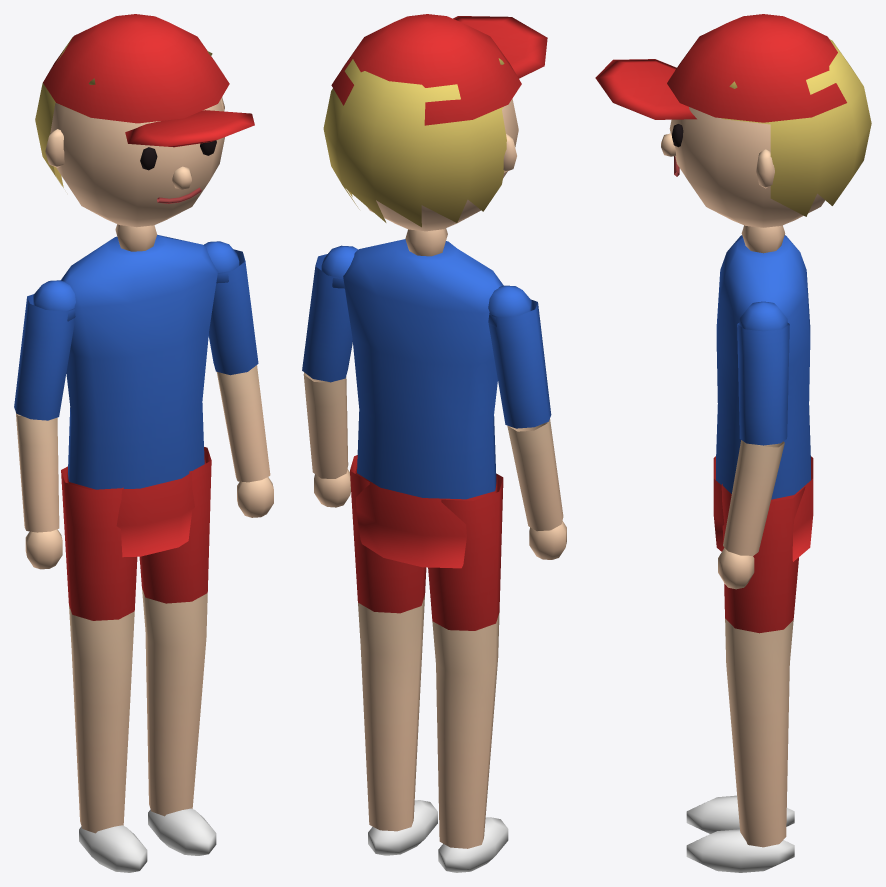
The model's file is Guest_Boy.obj.
3 views of the same model, side by side, from view 1: azimuth 30°, elevation 25°; view 2: azimuth 150°, elevation 25°; view 3: azimuth 270°, elevation 25° (orthographic).
Visible parts, largest first — view 1: Torso, Head, LegR, LegL, ArmR, ArmL; view 2: Torso, Head, LegR, LegL, ArmR, ArmL; view 3: Head, LegL, Torso, ArmL, LegR.
Part boxes in pixels (box(x1,y1,x2,y2)): Torso: box(61, 224, 218, 557); Head: box(35, 14, 254, 227); LegR: box(61, 466, 147, 872); LegL: box(139, 447, 216, 855); ArmR: box(14, 280, 75, 569); ArmL: box(203, 241, 273, 517); Torso: box(343, 228, 503, 568); Head: box(323, 14, 547, 231); LegR: box(428, 473, 508, 872); LegL: box(350, 455, 437, 855); ArmR: box(488, 285, 566, 559); ArmL: box(302, 245, 357, 507); Head: box(595, 14, 871, 227); LegL: box(686, 484, 805, 872); Torso: box(713, 225, 813, 561); ArmL: box(718, 301, 789, 589); LegR: box(686, 795, 794, 833).
Size of the model in its own units: 0.4054 by 1.3 by 0.3926.
1 material, 1 textured.
